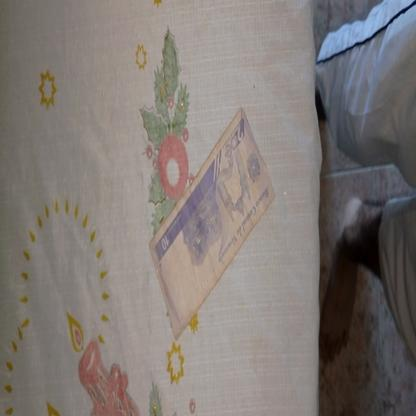ten-back-vef: (147, 104, 274, 340)
